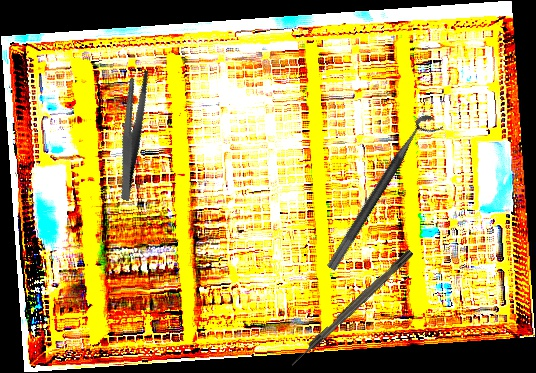Dressing Forceps: (87, 66, 177, 202)
Fixation Ring: (325, 110, 445, 280)
Hook Surgical: (288, 248, 415, 369)
